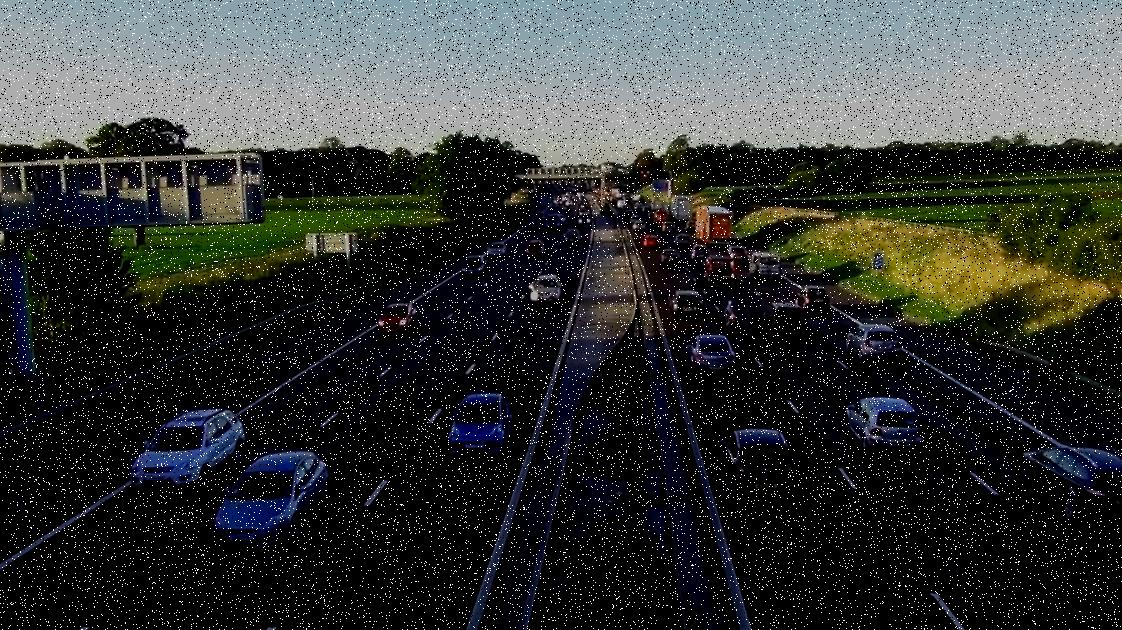bike: (724, 299, 738, 331)
bus: (695, 206, 734, 243)
car: (211, 448, 328, 547), (125, 406, 250, 494), (1014, 446, 1122, 517), (713, 426, 801, 498), (843, 396, 927, 450), (447, 390, 512, 457), (688, 333, 736, 373), (851, 323, 899, 361), (763, 307, 807, 343), (379, 301, 419, 334), (529, 274, 565, 305), (672, 289, 707, 316), (797, 283, 829, 311), (754, 255, 783, 278), (464, 256, 491, 277), (527, 240, 548, 258), (690, 243, 710, 261), (486, 241, 507, 258), (660, 248, 681, 265), (728, 244, 748, 261), (562, 227, 581, 244), (639, 237, 661, 251)
